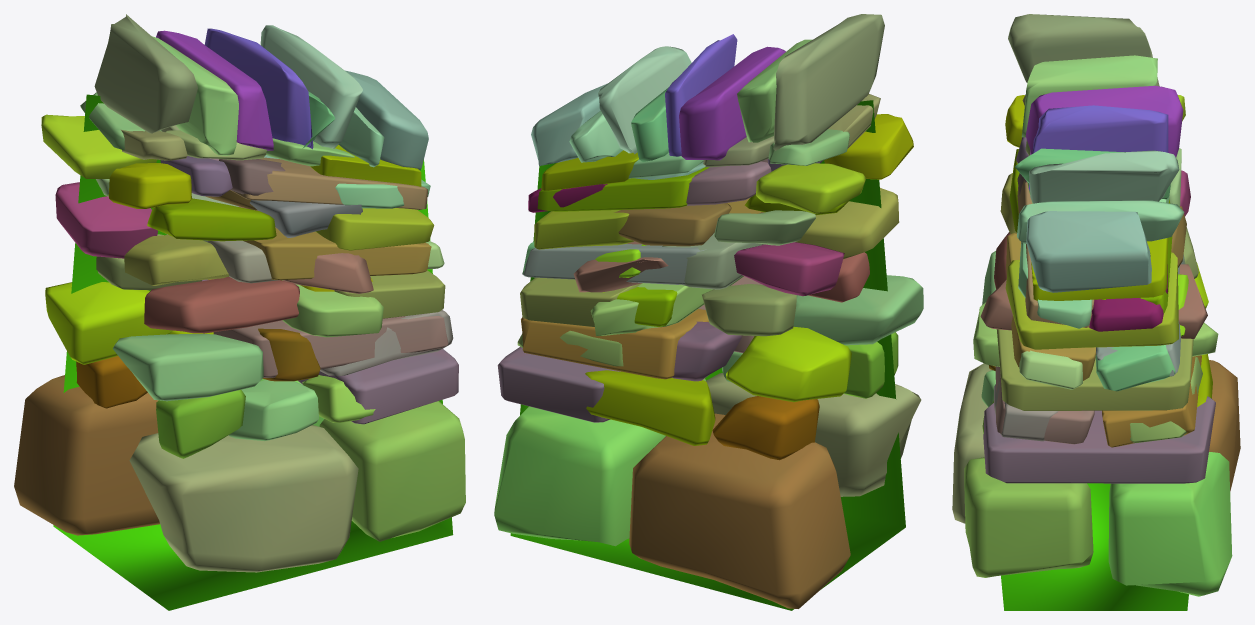
Rendered from SM_WallEnd_B.glb.
The picture shows the model from 3 angles, left to right: view 1: azimuth 30°, elevation 25°; view 2: azimuth 150°, elevation 25°; view 3: azimuth 270°, elevation 25°; orthographic projection. The views are drawn at different scales.
Visible parts, largest first — view 1: SM_WallEnd_B; view 2: SM_WallEnd_B; view 3: SM_WallEnd_B.
Part boxes in pixels (<box>): SM_WallEnd_B: <box>14,14,465,610</box>; SM_WallEnd_B: <box>494,14,923,610</box>; SM_WallEnd_B: <box>952,14,1240,610</box>.
Bounding box in the file's own units: 1.08 × 1.67 × 0.9167.
